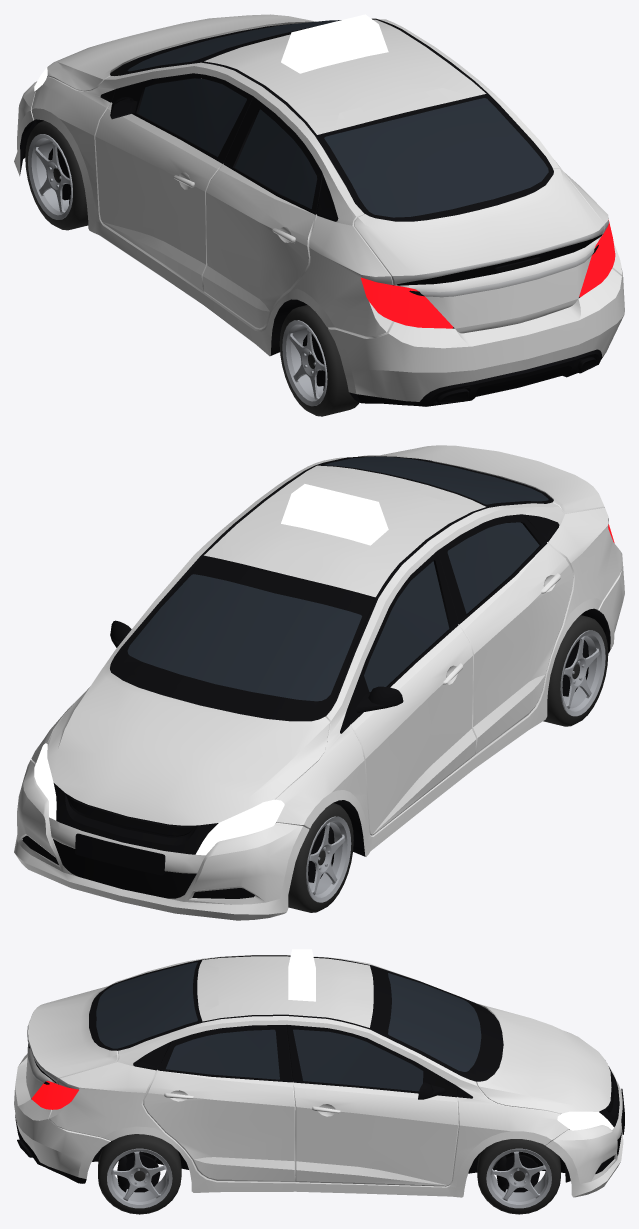
Rendered from taxi.glb.
3 views of the same model, one above another, from view 1: azimuth 30°, elevation 25°; view 2: azimuth 150°, elevation 25°; view 3: azimuth 270°, elevation 25° (orthographic). The views are drawn at different scales.
Parts seen in each view (by area): view 1: Body, Glass, Bumper_R, Hood, Wheel_RL, Wheel_FL, TaxiSign, Lamp_R; view 2: Body, Glass, Hood, Bumper_F, Wheel_RL, Wheel_FL, TaxiSign, Lamp_F, Bumper_R, Mirror_L; view 3: Body, Glass, Hood, Wheel_RR, Bumper_R, Wheel_FR, Bumper_F, TaxiSign, Lamp_R, Lamp_F.
Part boxes in pixels (bbox=[...]): Body: bbox=[19, 18, 622, 390]; Glass: bbox=[127, 20, 548, 217]; Bumper_R: bbox=[335, 275, 624, 406]; Hood: bbox=[43, 14, 315, 107]; Wheel_RL: bbox=[279, 305, 359, 416]; Wheel_FL: bbox=[25, 120, 88, 230]; TaxiSign: bbox=[281, 14, 388, 73]; Lamp_R: bbox=[361, 220, 615, 328]; Body: bbox=[19, 445, 622, 898]; Glass: bbox=[127, 456, 548, 701]; Hood: bbox=[43, 667, 352, 809]; Bumper_F: bbox=[14, 796, 292, 920]; Wheel_RL: bbox=[543, 615, 608, 726]; Wheel_FL: bbox=[288, 803, 353, 912]; TaxiSign: bbox=[281, 484, 388, 545]; Lamp_F: bbox=[34, 743, 284, 855]; Bumper_R: bbox=[581, 551, 624, 653]; Mirror_L: bbox=[356, 686, 403, 712]; Body: bbox=[26, 955, 619, 1197]; Glass: bbox=[96, 962, 481, 1091]; Hood: bbox=[462, 1004, 600, 1119]; Wheel_RR: bbox=[98, 1134, 181, 1214]; Bumper_R: bbox=[14, 1053, 101, 1183]; Wheel_FR: bbox=[477, 1139, 560, 1214]; Bumper_F: bbox=[564, 1074, 624, 1197]; TaxiSign: bbox=[288, 949, 315, 1001]; Lamp_R: bbox=[31, 1081, 78, 1109]; Lamp_F: bbox=[557, 1111, 613, 1130].
Bounding box in the file's own units: 1.94 × 1.73 × 4.72.
